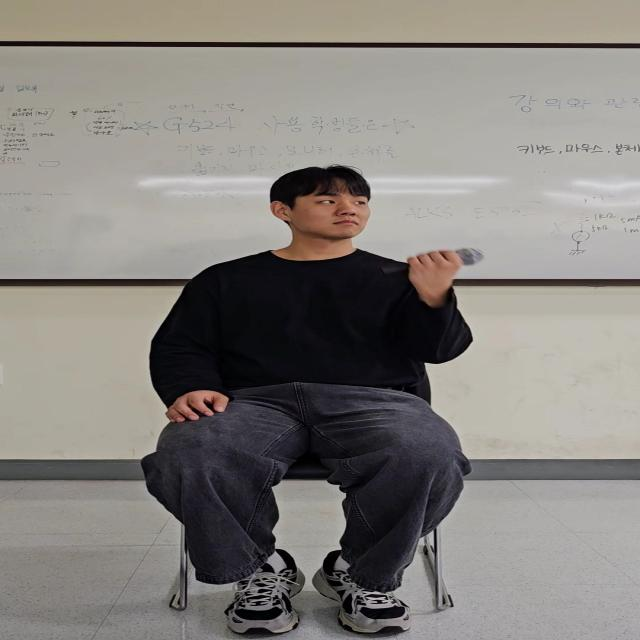curl: (370, 250, 510, 374)
